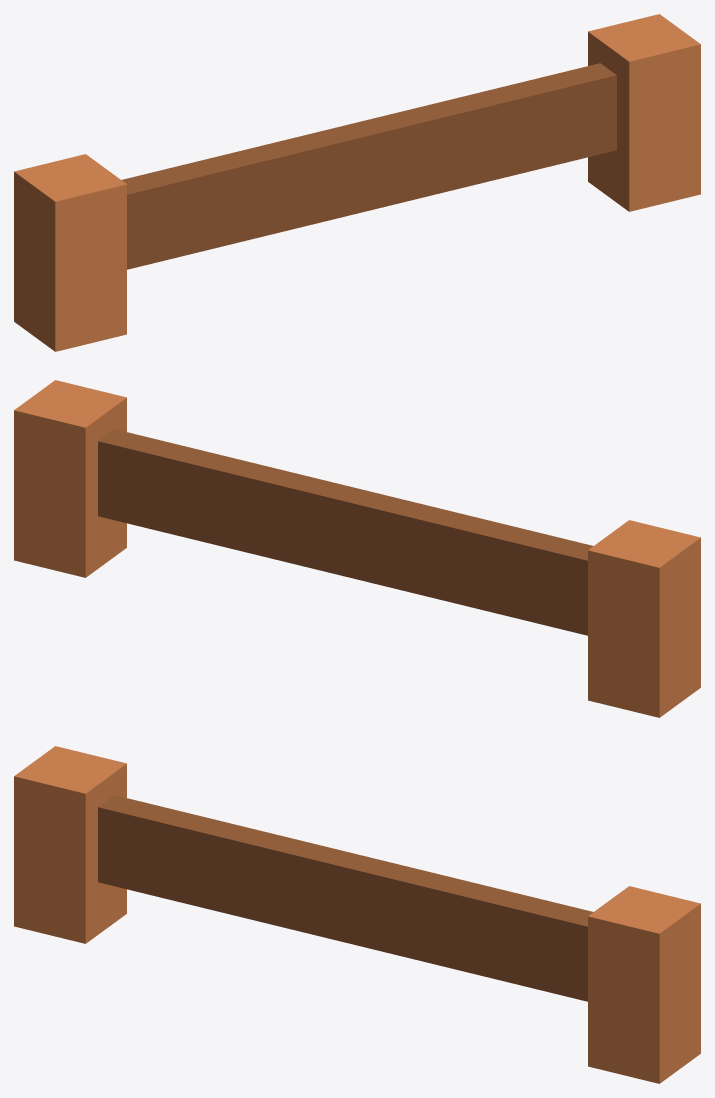
Rendered from fenceLow.fbx.
The picture shows the model from 3 angles, top to bottom: view 1: azimuth 30°, elevation 25°; view 2: azimuth 150°, elevation 25°; view 3: azimuth 330°, elevation 25°; orthographic projection.
Parts seen in each view (by area): view 1: fenceLow; view 2: fenceLow; view 3: fenceLow.
Boxes of the visible parts, bbox=[...] form: fenceLow: bbox=[14, 14, 700, 351]; fenceLow: bbox=[14, 380, 700, 717]; fenceLow: bbox=[14, 746, 700, 1083].
Size of the model in its own units: 9 by 2 by 1.
